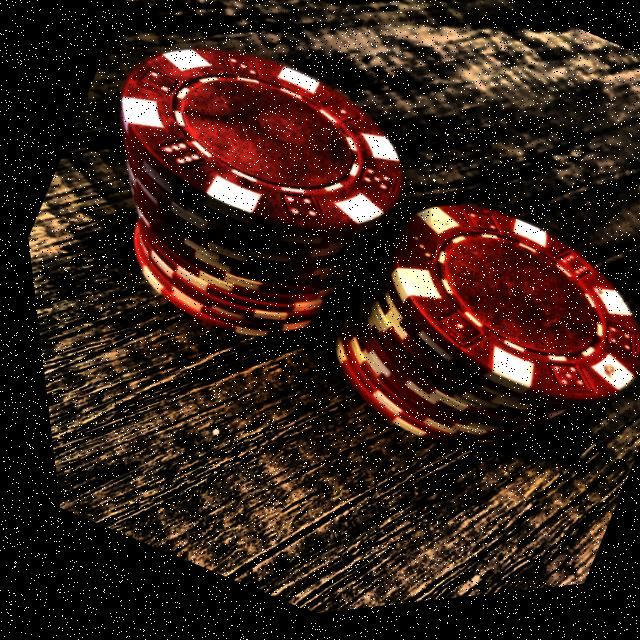Chip: (3, 0, 481, 423), (265, 142, 640, 544)
